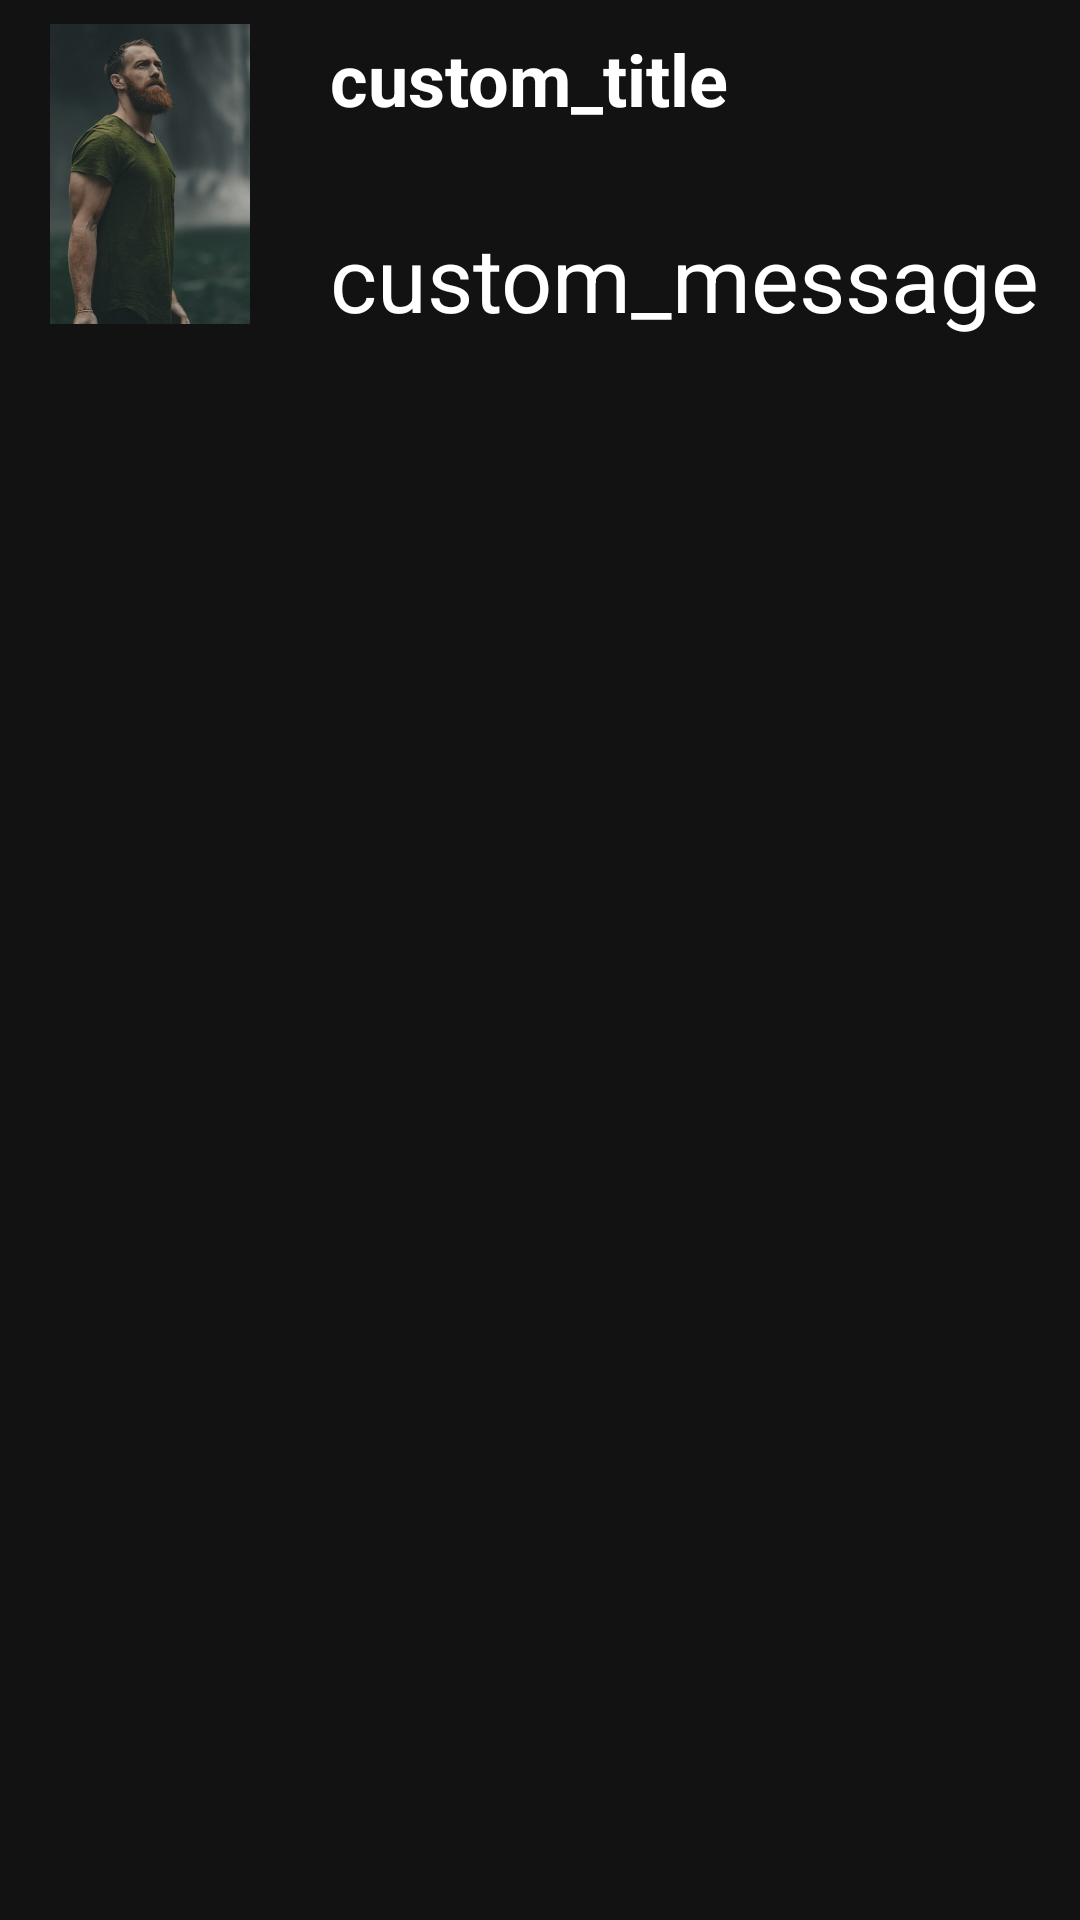

Where icons sit on this 1080 x 1920 app screen, as (x1, y1, x2, y2):
man: (50, 24, 250, 324)
